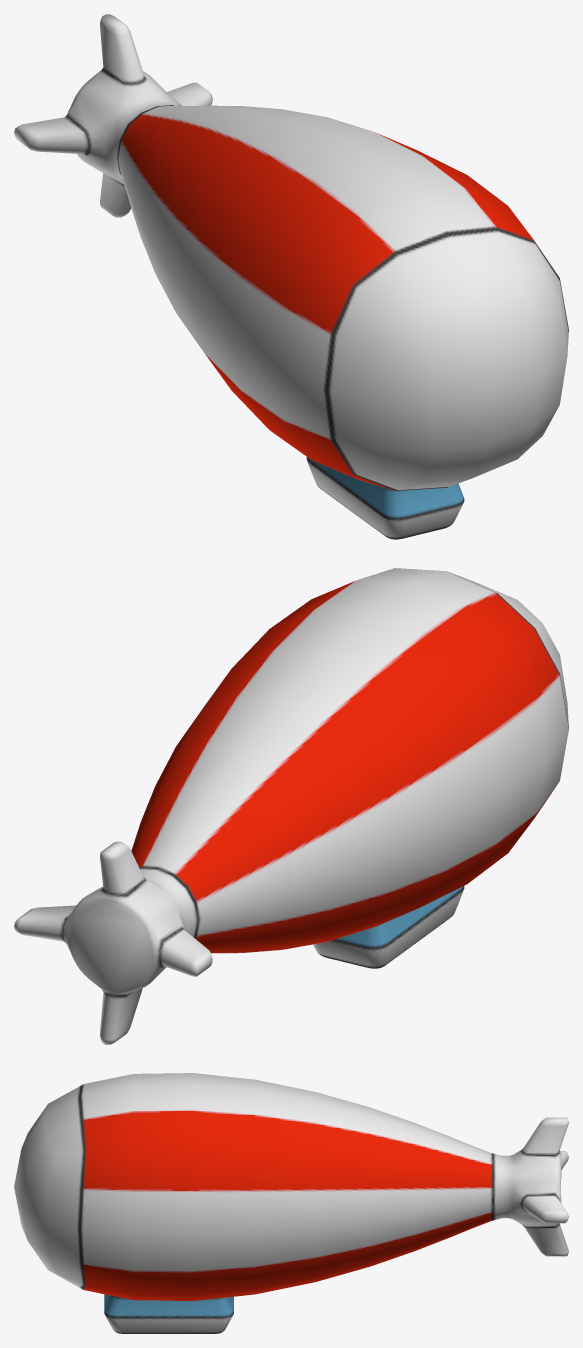
File: airvehicle.glb
The picture shows the model from 3 angles, top to bottom: view 1: azimuth 30°, elevation 25°; view 2: azimuth 150°, elevation 25°; view 3: azimuth 270°, elevation 25°; orthographic projection. The views are drawn at different scales.
Parts seen in each view (by area): view 1: Zeppelin; view 2: Zeppelin; view 3: Zeppelin.
Boxes of the visible parts, x1,y1,x2,y2 form: Zeppelin: (14,14,568,539); Zeppelin: (14,568,568,1044); Zeppelin: (14,1073,568,1333).
Size of the model in its own units: 1.5 by 1.74 by 3.67.
Materials: 1 (1 with a texture image).
